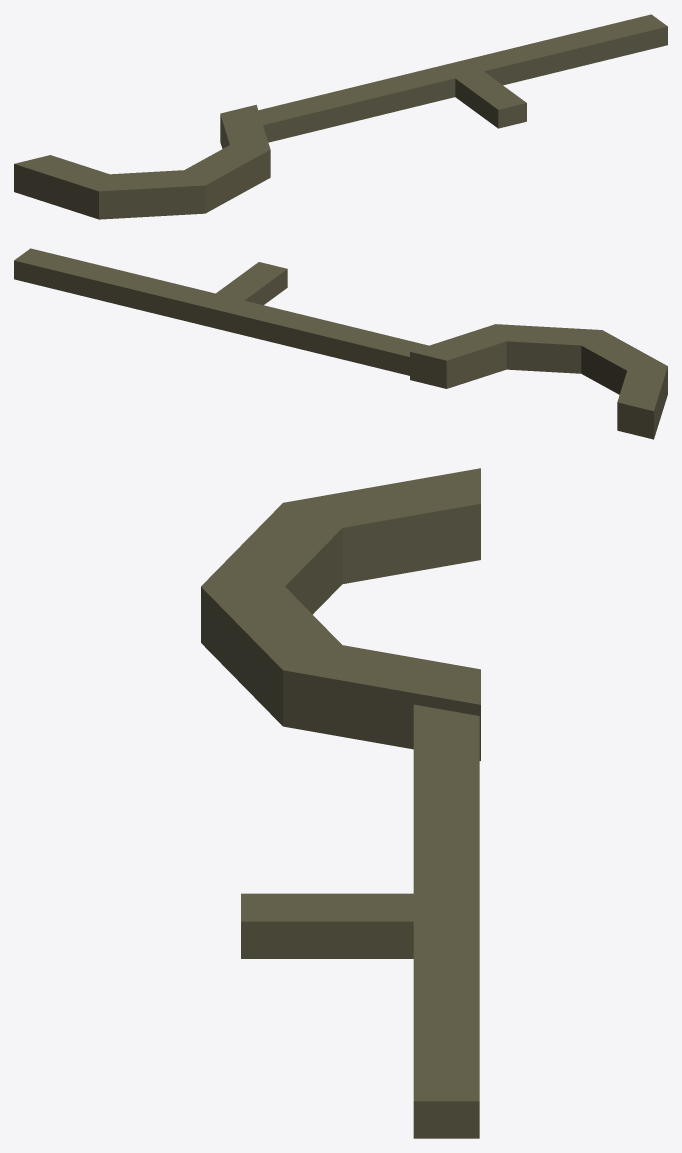
File: key2.fbx
The picture shows the model from 3 angles, top to bottom: view 1: azimuth 30°, elevation 25°; view 2: azimuth 150°, elevation 25°; view 3: azimuth 270°, elevation 25°; orthographic projection. The views are drawn at different scales.
Visible parts, largest first — view 1: key2; view 2: key2; view 3: key2.
Boxes of the visible parts, x1,y1,x2,y2 form: key2: [14, 14, 667, 219]; key2: [14, 248, 667, 439]; key2: [201, 468, 480, 1138].
Size of the model in its own units: 117 by 4.96 by 22.35.
Materials: 1 (1 with a texture image).
